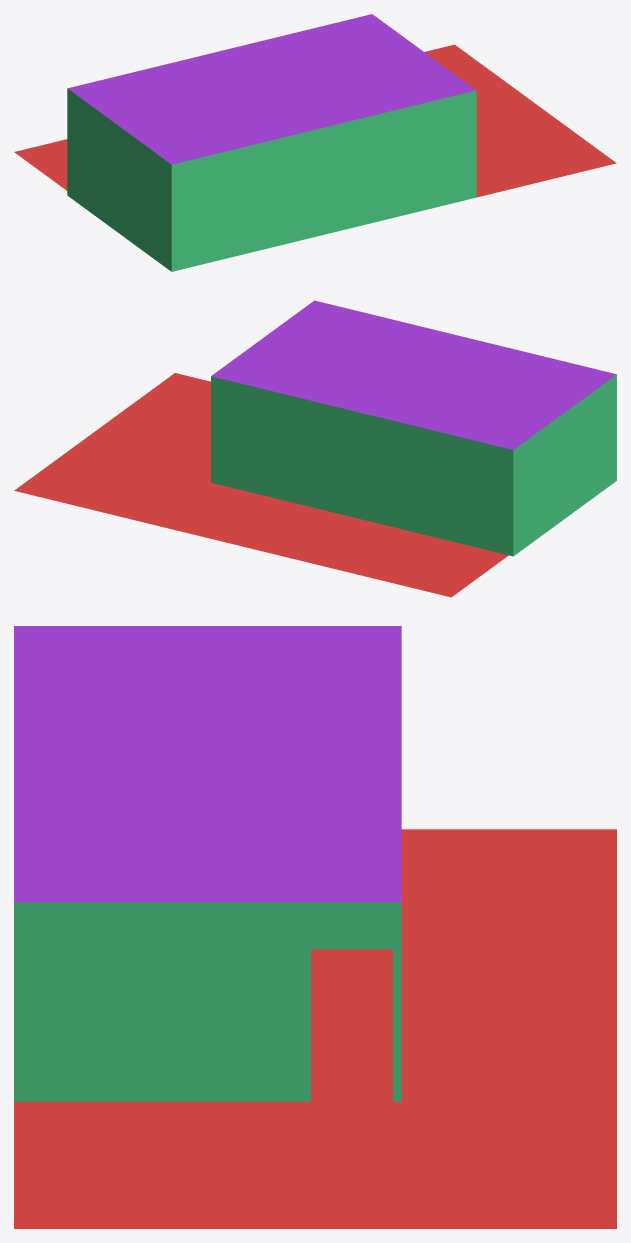
File: Pièce2.fbx
3 renders of one model, top to bottom at view 1: azimuth 30°, elevation 25°; view 2: azimuth 150°, elevation 25°; view 3: azimuth 270°, elevation 25°, orthographic. The views are drawn at different scales.
Visible parts, largest first — view 1: Cube; view 2: Cube; view 3: Cube.
Part boxes in pixels (x1,y1,x2,y2): Cube: (14,14,616,271); Cube: (14,300,616,597); Cube: (14,626,616,1228).
Size of the model in its own units: 1998 by 460 by 1261.
